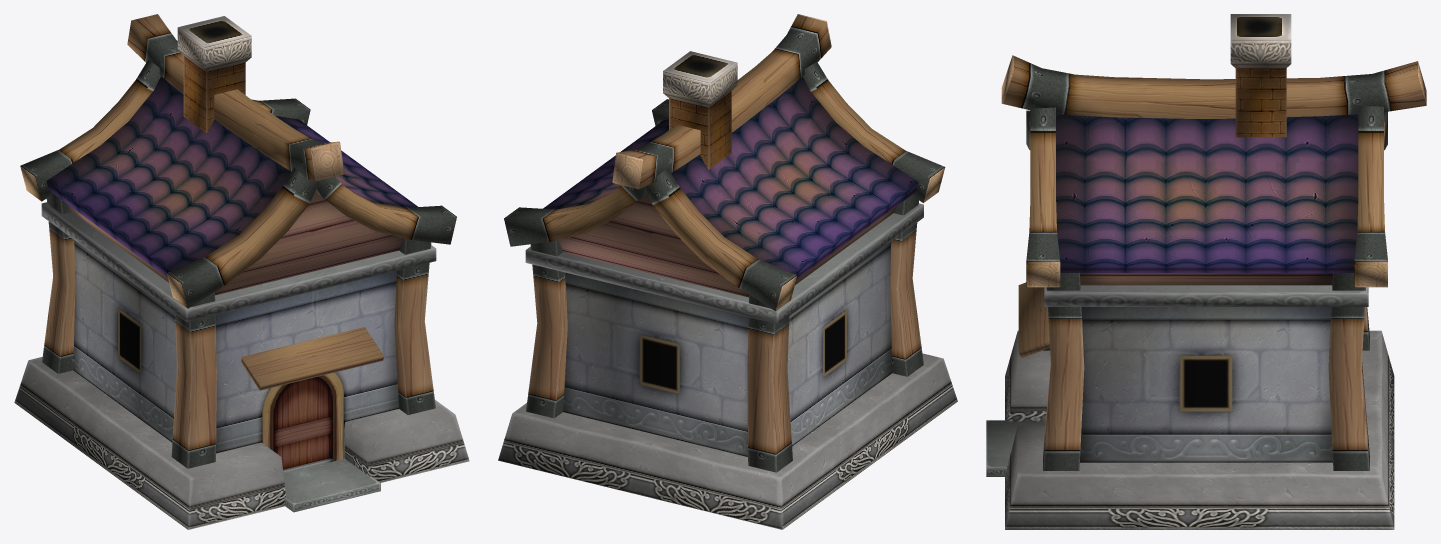
Rendered from SD_house_004.fbx.
3 views of the same model, side by side, from view 1: azimuth 30°, elevation 25°; view 2: azimuth 150°, elevation 25°; view 3: azimuth 270°, elevation 25° (orthographic). The views are drawn at different scales.
Parts seen in each view (by area): view 1: polySurface196; view 2: polySurface196; view 3: polySurface196.
Part boxes in pixels (x1,y1,x2,y2): polySurface196: (14,14,469,529); polySurface196: (498,14,957,529); polySurface196: (986,14,1426,529).
Size of the model in its own units: 12.49 by 16.12 by 15.11.
